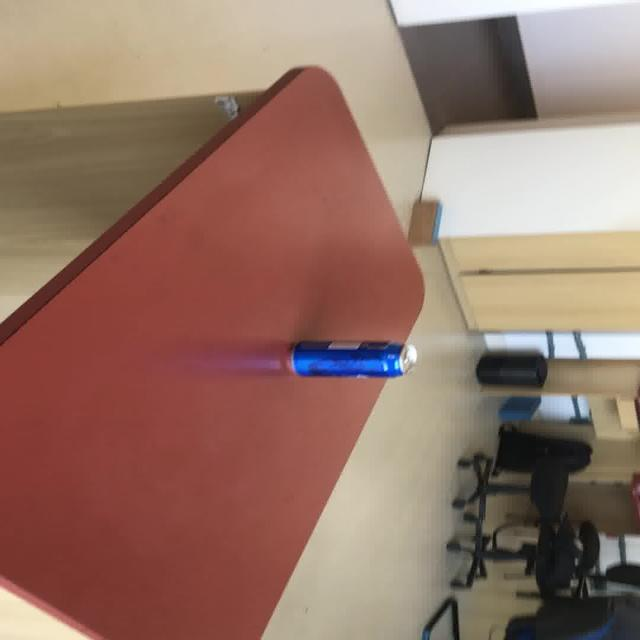tonic: (174, 338, 418, 378), (287, 339, 417, 378)
